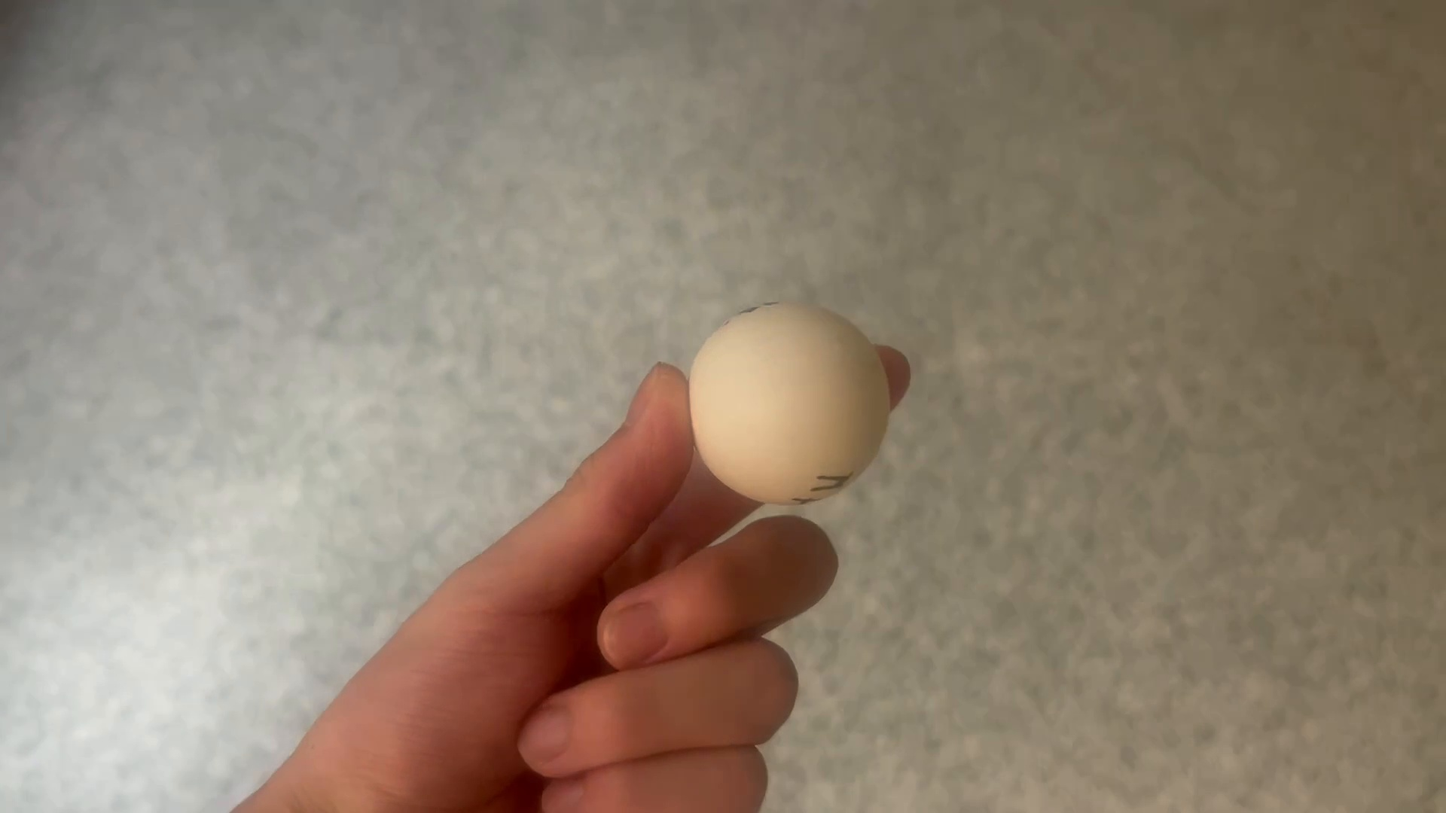Ball: (687, 292, 892, 512)
